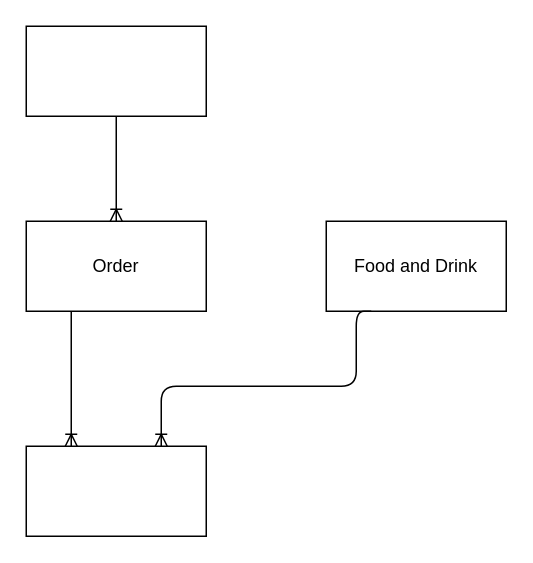
Image size: 533x563. Some labels were removed from this diagram. Each missing label, with the centre of its shape:
Customer: (x=115, y=70)
OrderItem: (x=115, y=490)
